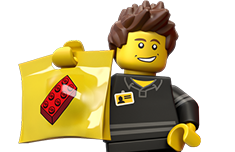lego: (55, 1, 206, 151)
